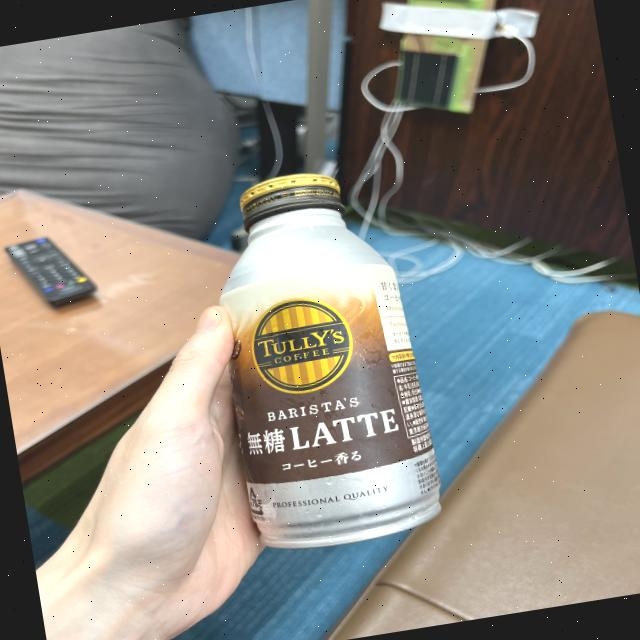coffee-latte: (199, 158, 447, 560)
